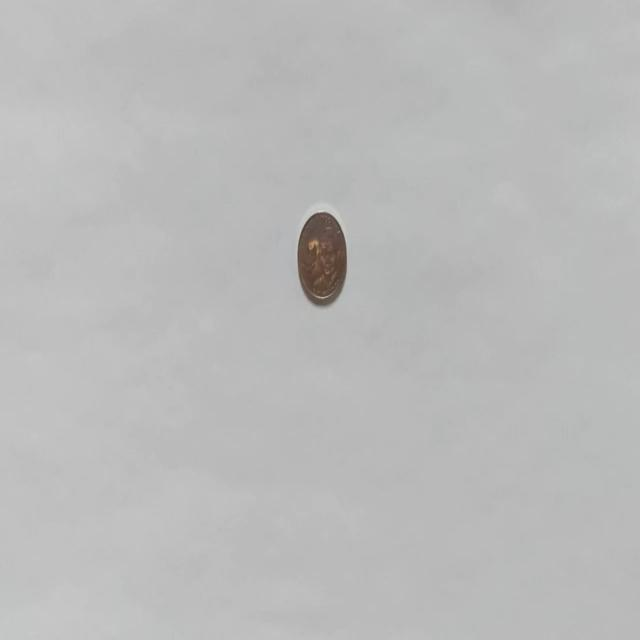seribu rupiah koin: (296, 206, 348, 306)
